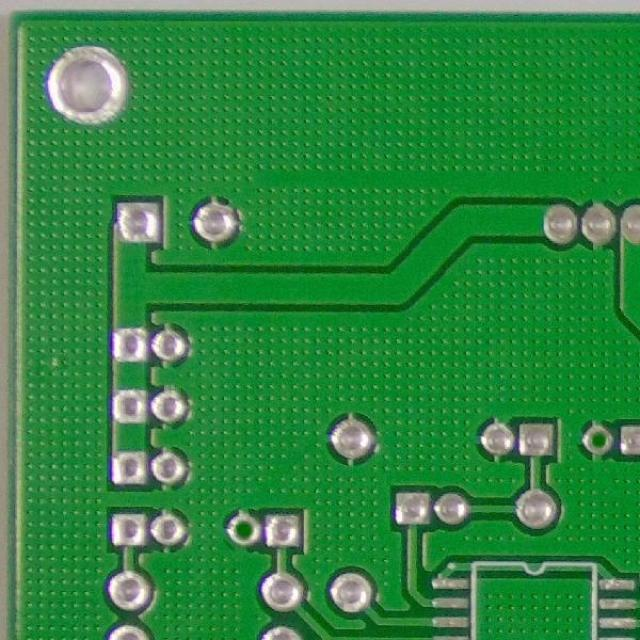missing_hole: (224, 507, 260, 548), (584, 420, 614, 458)
